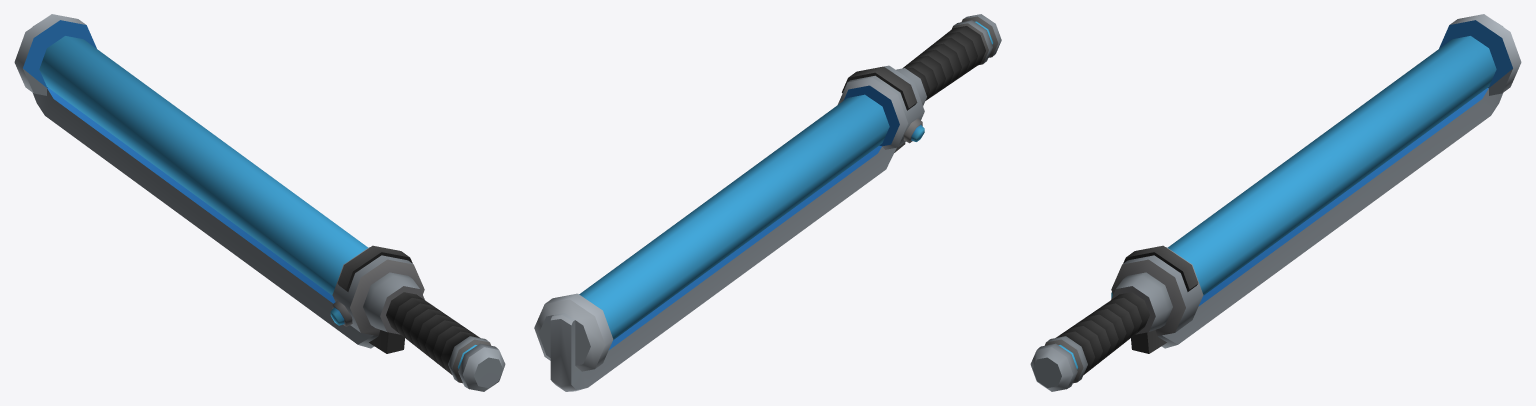
Rendered from Melee_Lightsaber.fbx.
The picture shows the model from 3 angles, left to right: view 1: azimuth 30°, elevation 25°; view 2: azimuth 150°, elevation 25°; view 3: azimuth 330°, elevation 25°; orthographic projection. The views are drawn at different scales.
Parts seen in each view (by area): view 1: Melee_Lightsaber; view 2: Melee_Lightsaber; view 3: Melee_Lightsaber.
Boxes of the visible parts, <box> form: Melee_Lightsaber: <box>14,14,505,391</box>; Melee_Lightsaber: <box>534,14,1001,391</box>; Melee_Lightsaber: <box>1030,14,1521,391</box>.
Size of the model in its own units: 0.129 by 0.156 by 1.21.
